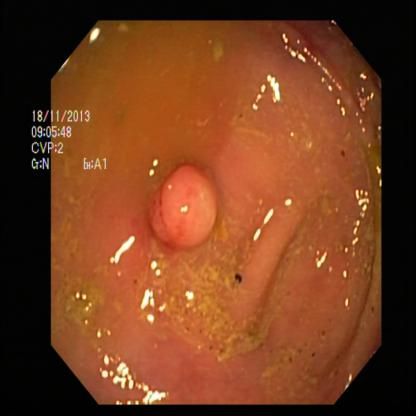Labels: (29, 98, 114, 177)
Polyps: (150, 158, 226, 245)
